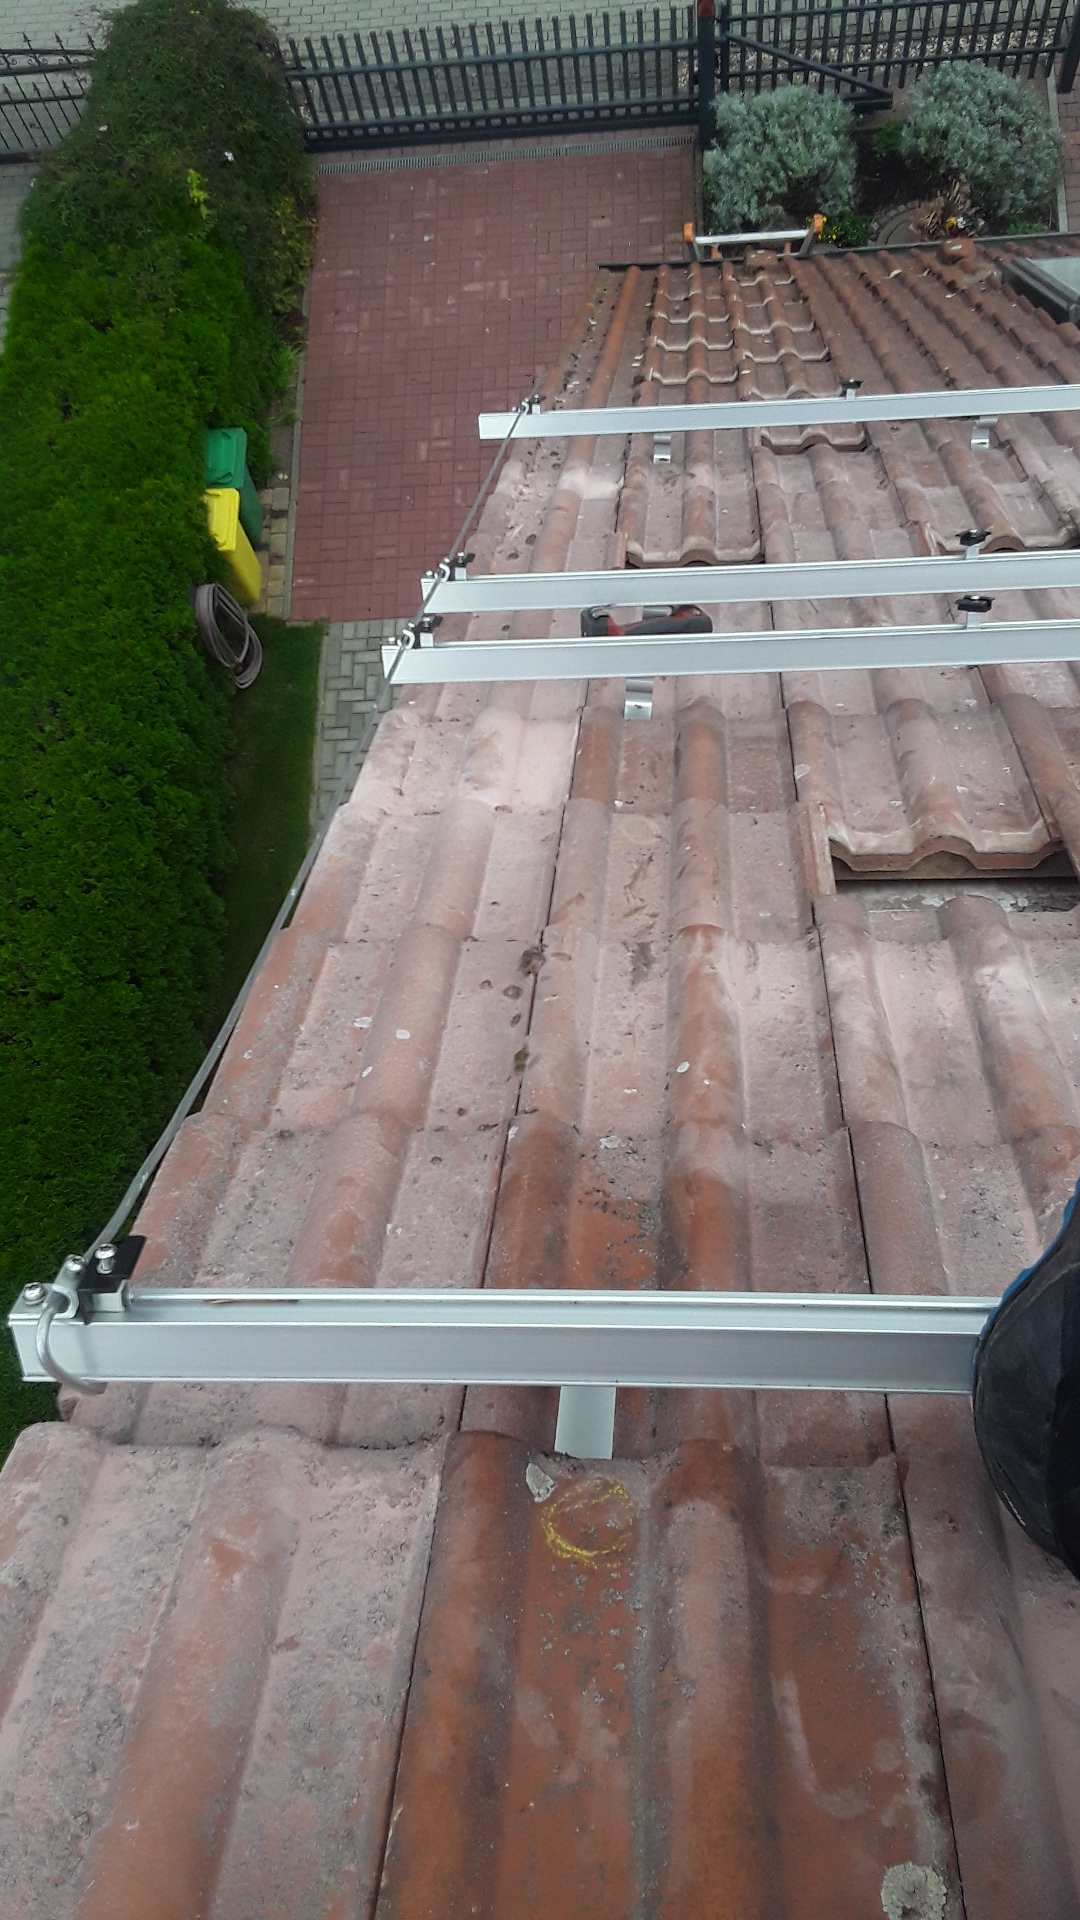hook: (625, 674, 655, 719), (971, 415, 1000, 450), (651, 431, 673, 464), (642, 604, 673, 618)
